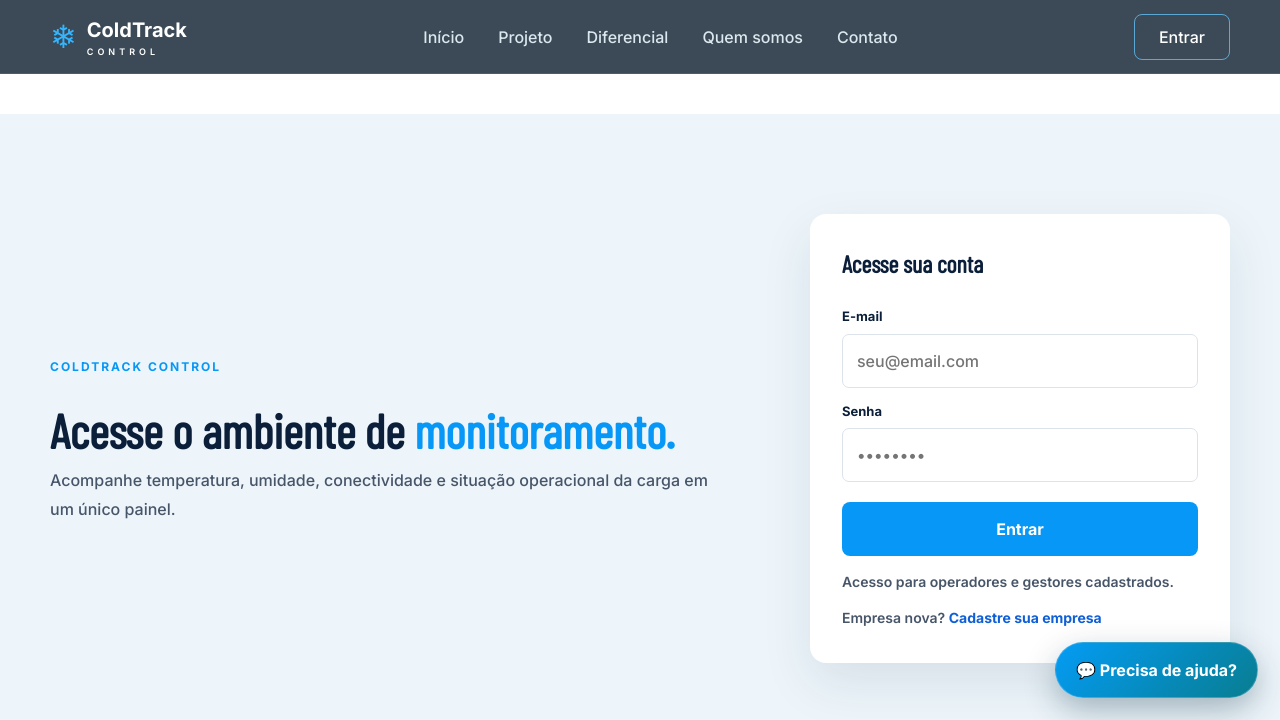
Test: Home › recusa sem lista de erros: mensagem genérica
The width and height of the screenshot is (1280, 720).
Type "ana@empresa.com" into the field labelled "E-mail" at (1020, 361), box x1=842 y1=334 x2=1198 y2=388
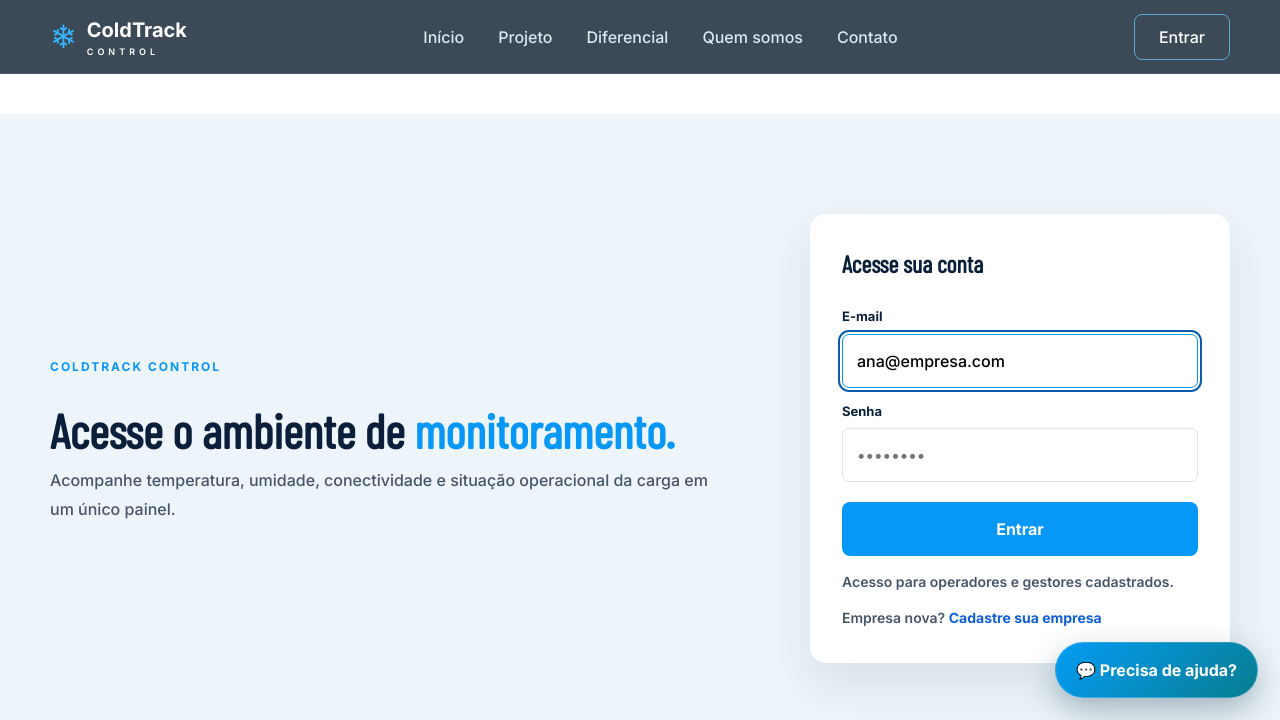
Type "x" into the password field labelled "Senha" at (1020, 455), box x1=842 y1=428 x2=1198 y2=482
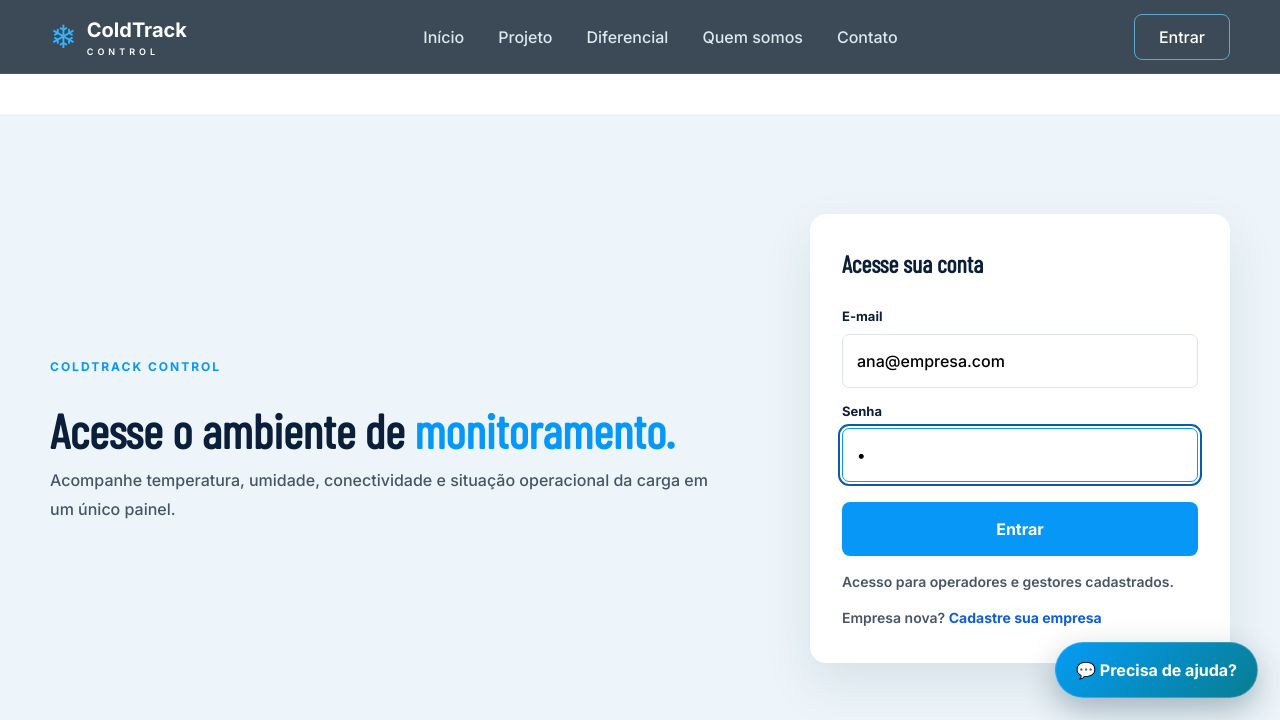
Click the button "Entrar" at (1020, 529), box x1=842 y1=502 x2=1198 y2=556
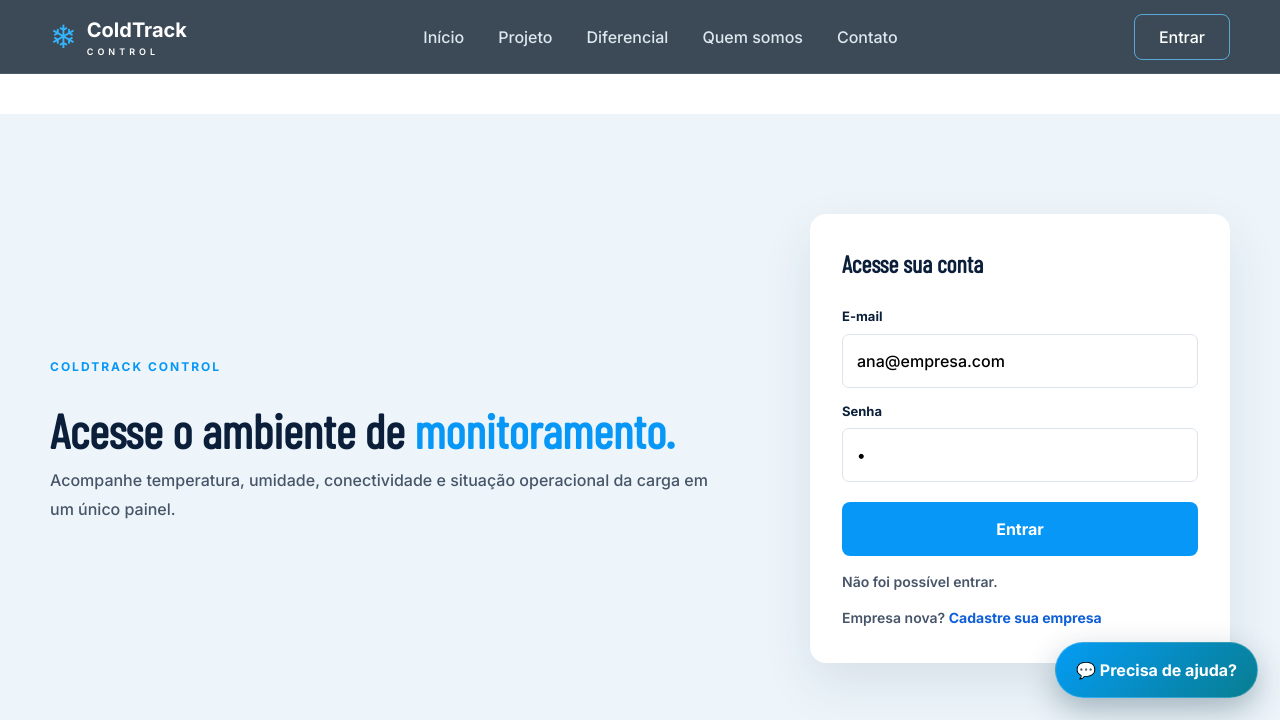
Result: the text "Não foi possível entrar." is shown at x1=842 y1=573 x2=998 y2=590
